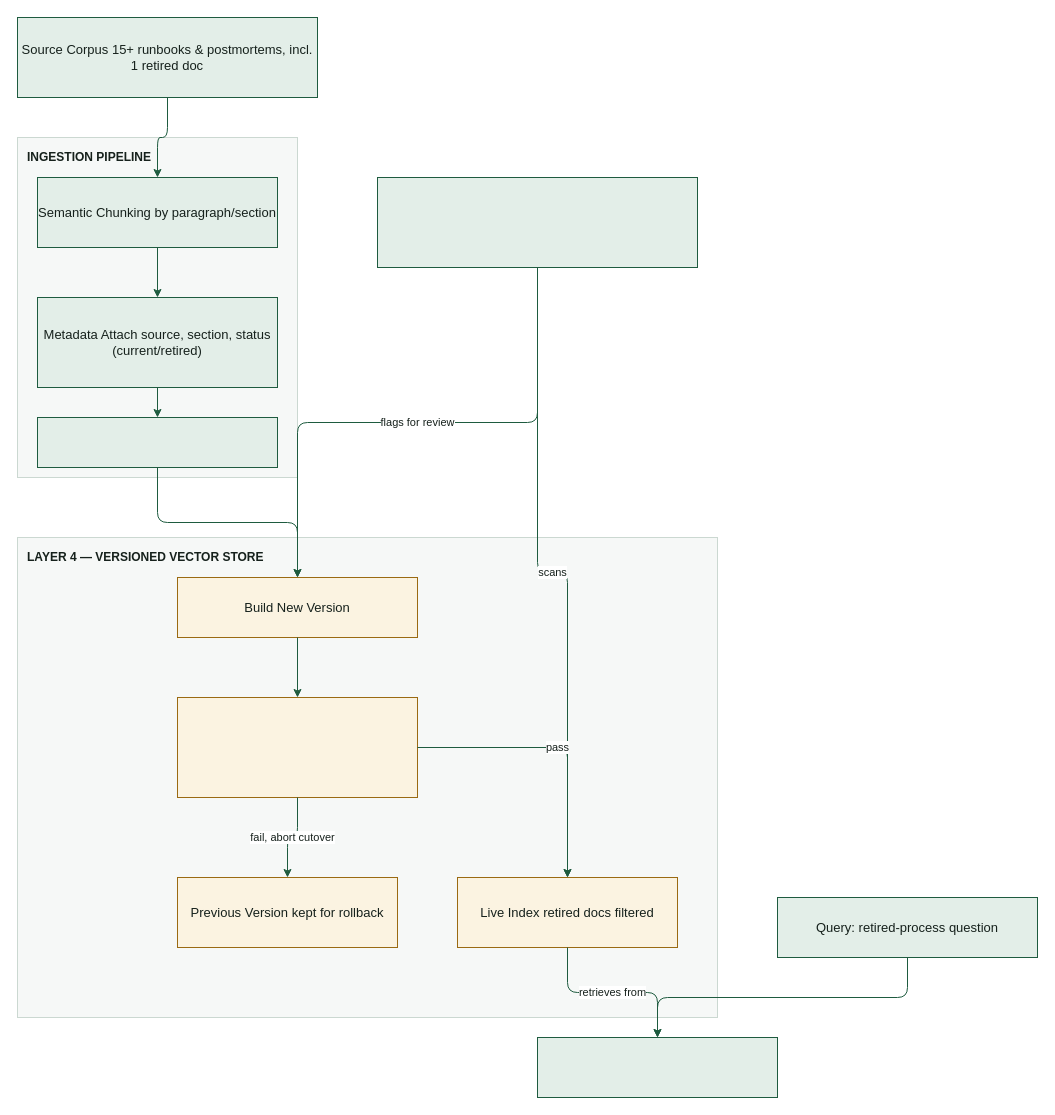
Some shapes in this 1055 by 1115 pixel diagram are drawn without their labels. Here are the shapes that lost their labels. From the top down, the centre of each, then its label:
At (x=537, y=222): "Freshness Check Job flags docs past age threshold or superseded".
At (x=157, y=442): "Embed".
At (x=297, y=747): "Smoke Test known-good query passes?".
At (x=657, y=1067): "Aegis (Layers 1-3)".
